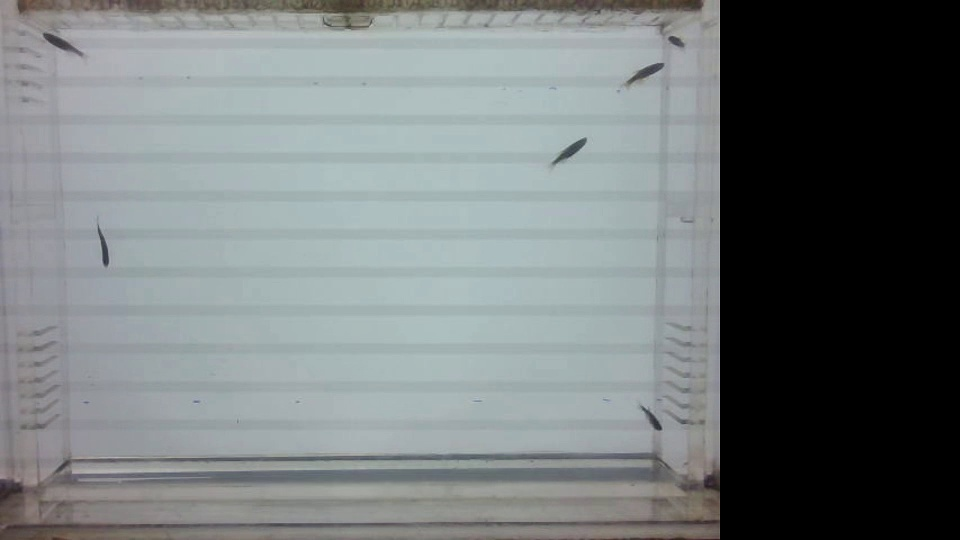fish: (548, 132, 600, 181), (608, 56, 674, 89), (40, 24, 90, 64), (628, 392, 664, 442), (88, 216, 120, 272), (661, 34, 689, 52)
